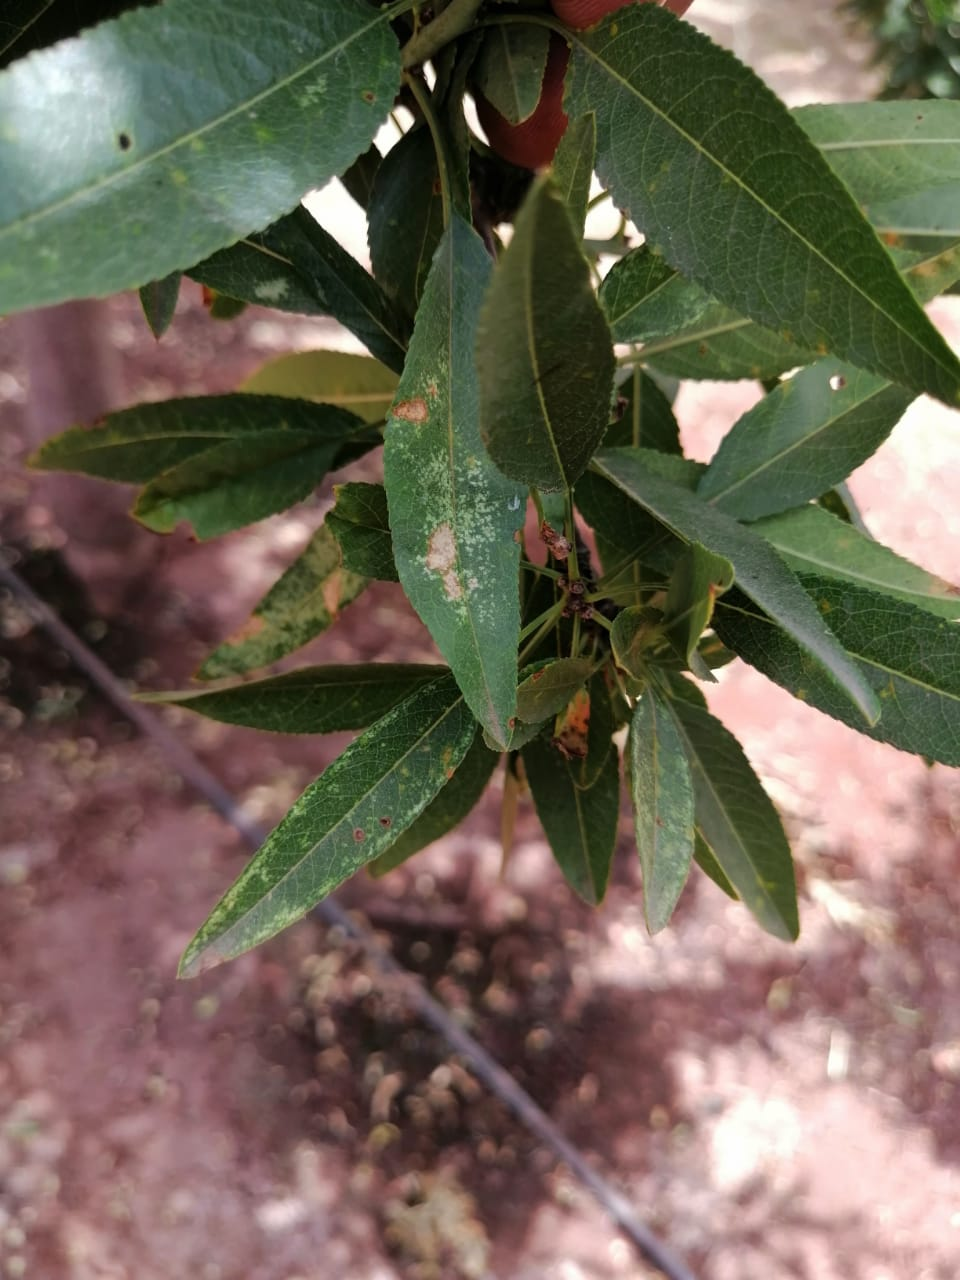faux tigre: (174, 672, 484, 980), (382, 217, 526, 753)
